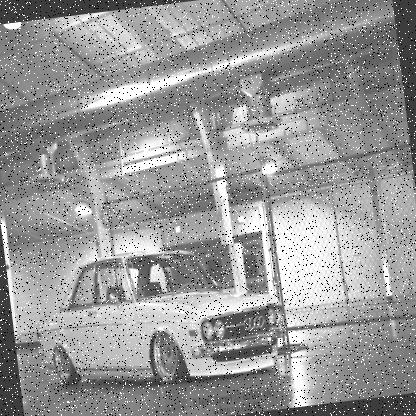Car: (32, 240, 274, 400)
